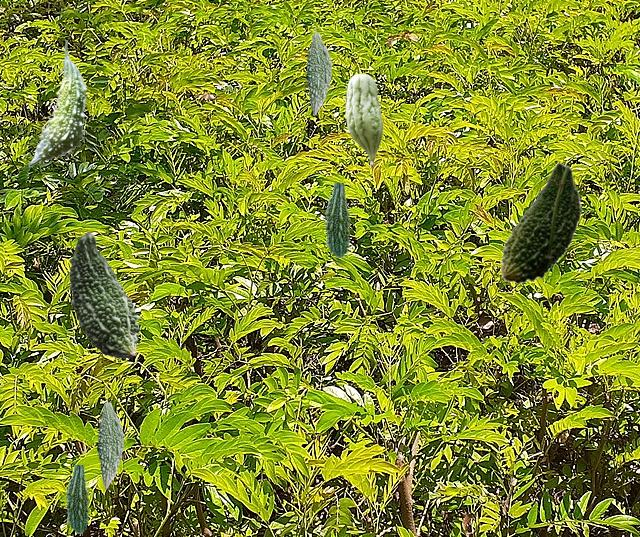ampalaya: (500, 162, 581, 283), (69, 231, 139, 357), (28, 40, 87, 166), (345, 73, 382, 167), (97, 394, 123, 488), (306, 25, 331, 114), (324, 183, 349, 256), (65, 465, 88, 532)
